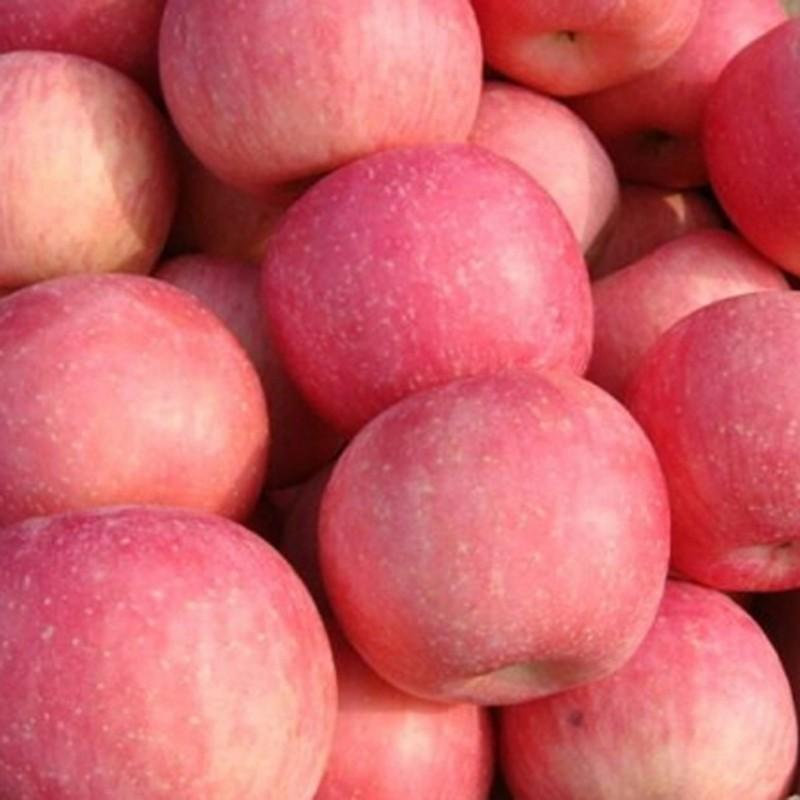apple: (324, 385, 690, 718), (263, 145, 599, 444), (1, 509, 330, 799), (1, 270, 271, 528), (495, 579, 800, 796), (154, 1, 481, 195), (626, 287, 800, 593), (1, 46, 182, 291), (5, 1, 167, 85)
